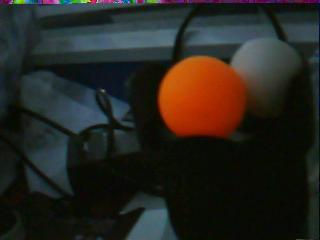oball: (159, 55, 246, 138)
